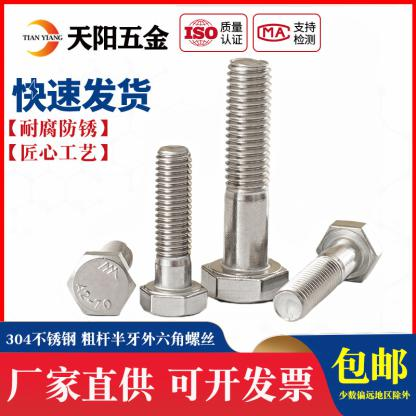FOD: (200, 56, 292, 305), (138, 145, 209, 317), (272, 217, 384, 323), (64, 238, 136, 318)
